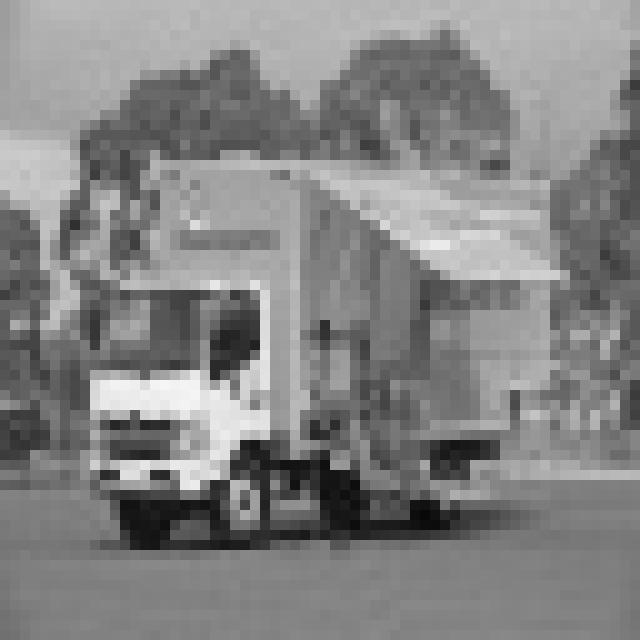trucks: (84, 141, 559, 552)
